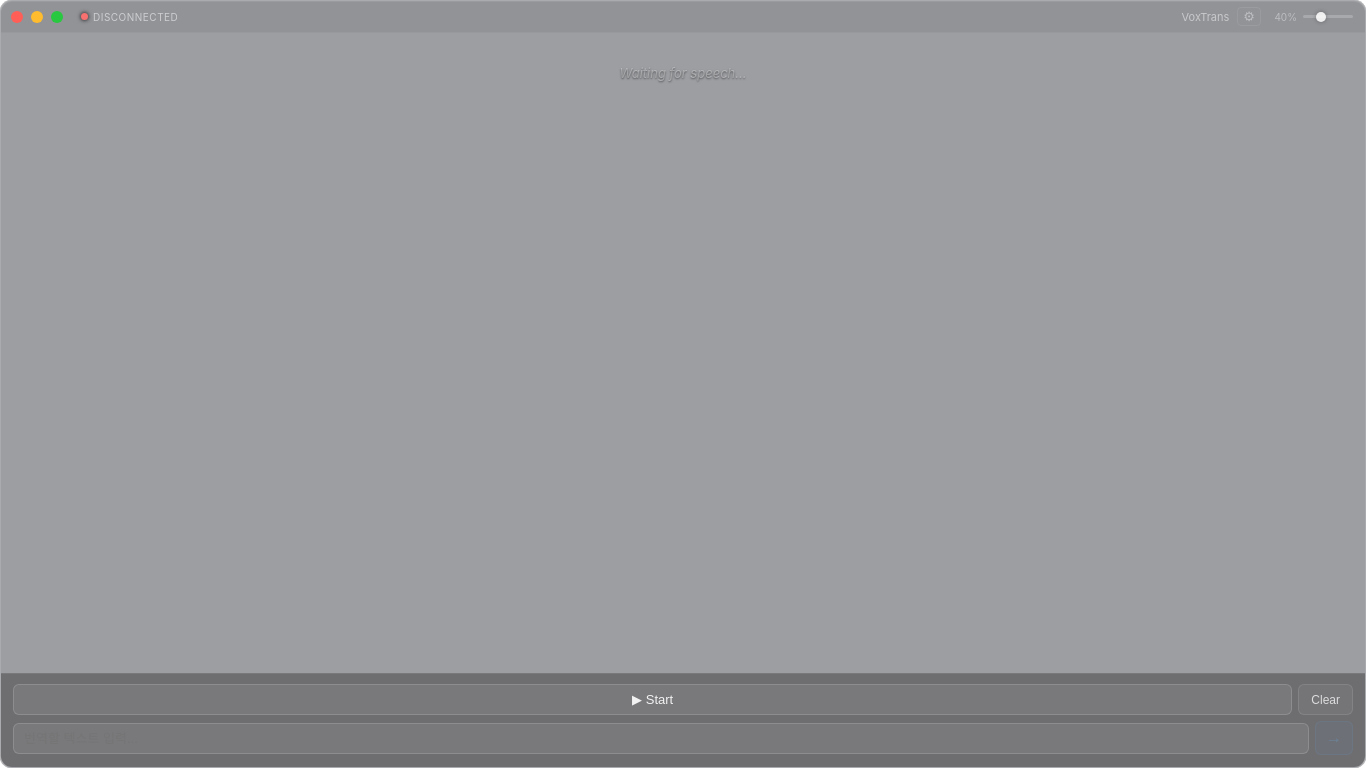
it: the meeting preset routes output to BlackHole and mic to a real input › explains what to do when BlackHole is not installed
The width and height of the screenshot is (1366, 768).
Click the button titled "Settings".
click(1249, 16)  # box [1237,7,1261,26]
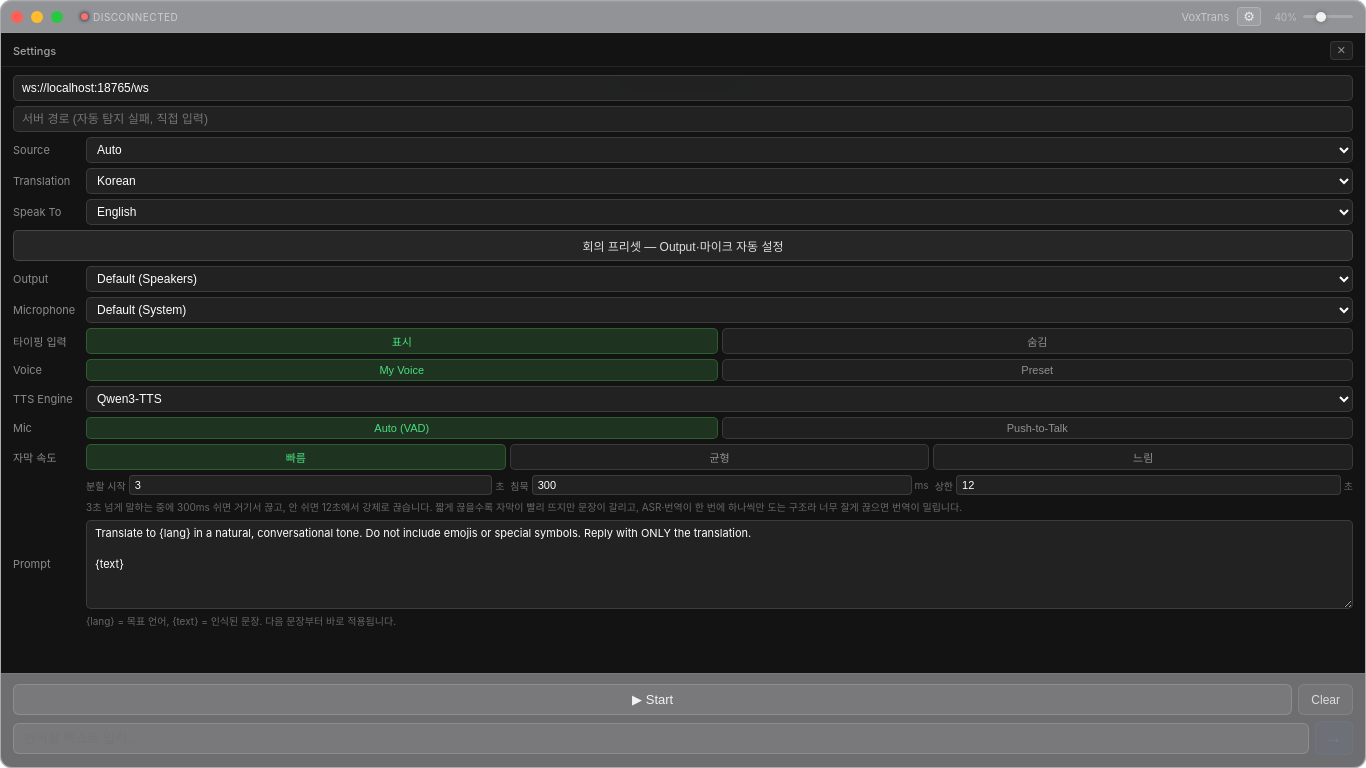
Click the button with test id "meeting-preset-btn".
click(683, 246)  # box [13,230,1353,261]
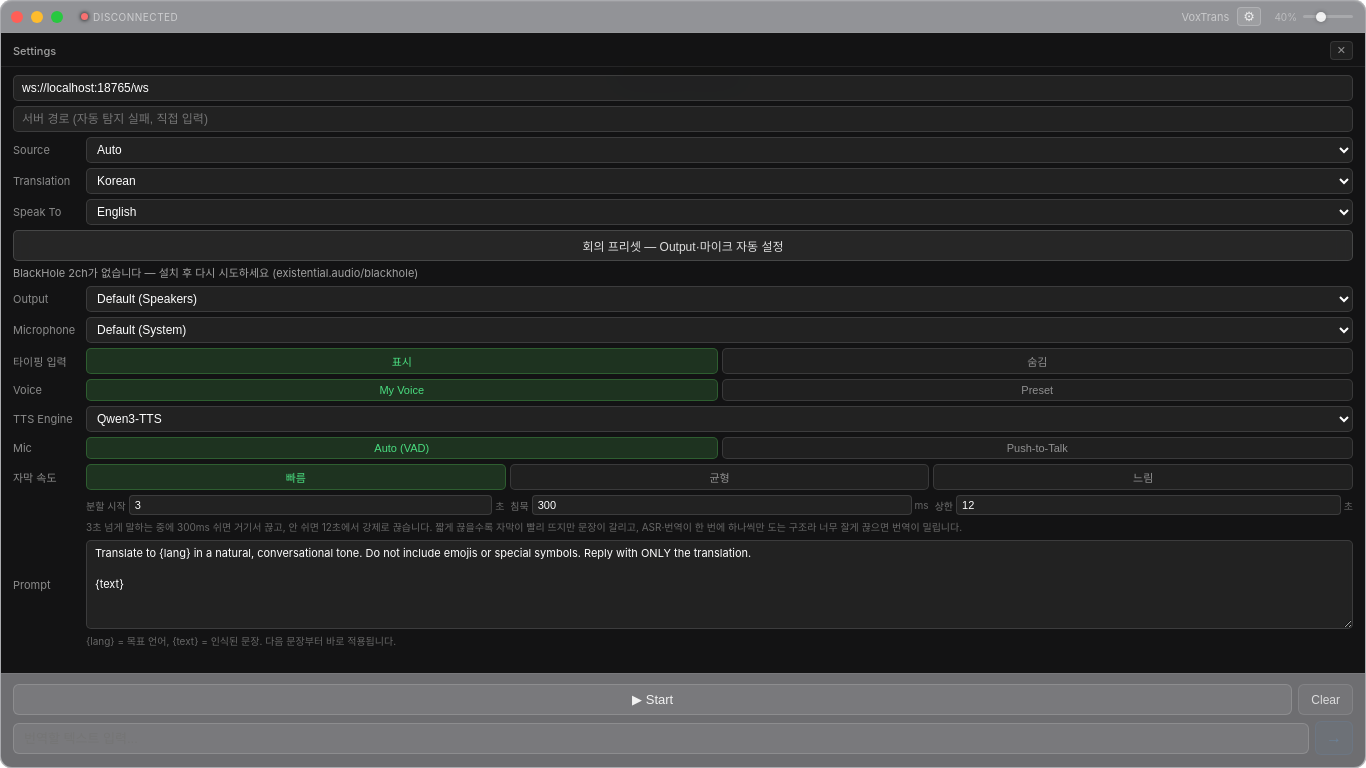
Check: the text with test id "meeting-preset-result" shows "설치", box [13,266,418,280]
